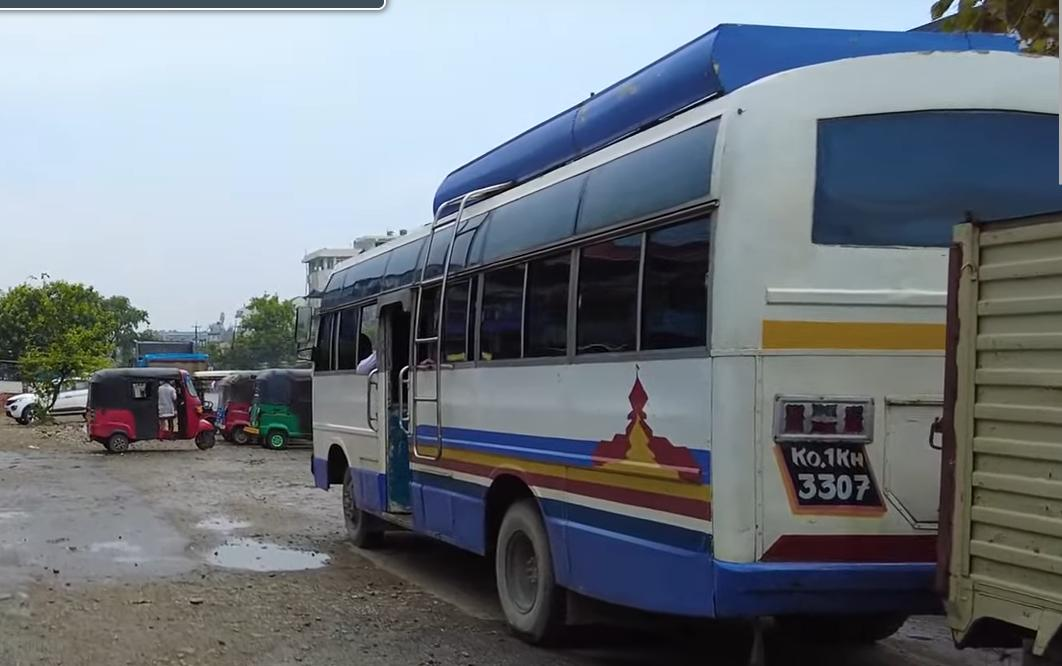auto_rickshaw: (85, 361, 223, 455)
bus: (283, 12, 1057, 605)
